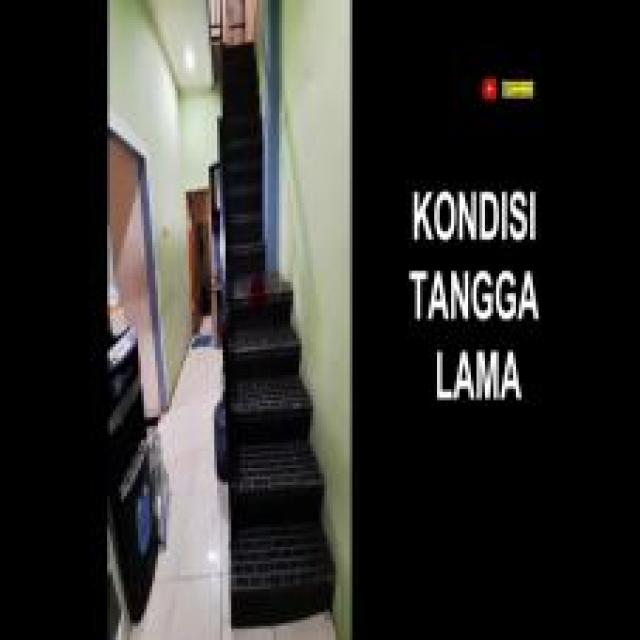upstair: (232, 332, 338, 628)
